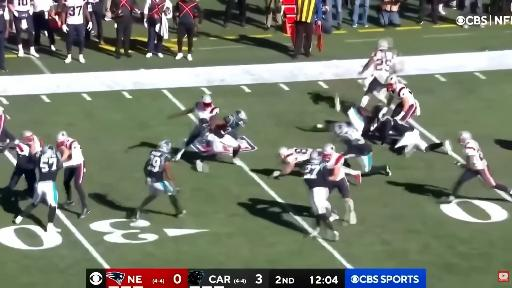Helmet: (335, 122, 354, 136), (372, 105, 388, 119), (157, 139, 172, 153), (323, 144, 335, 161), (234, 110, 247, 125), (386, 75, 397, 91), (459, 131, 472, 144), (49, 16, 61, 29), (310, 150, 322, 163), (22, 131, 34, 143), (57, 131, 67, 145), (202, 94, 212, 107), (378, 39, 389, 50), (323, 144, 335, 154), (279, 147, 289, 158), (42, 145, 54, 154), (386, 75, 397, 83)
Jersey: (335, 123, 372, 158), (390, 84, 419, 122), (372, 117, 414, 137), (144, 150, 170, 182), (372, 50, 395, 83), (37, 150, 61, 181), (463, 140, 487, 170), (303, 163, 329, 190), (334, 123, 364, 145), (64, 138, 83, 164), (16, 143, 35, 169), (65, 0, 85, 24), (391, 84, 415, 104), (283, 148, 312, 163), (195, 102, 218, 119), (224, 116, 241, 139), (363, 114, 380, 132), (327, 153, 344, 169), (8, 0, 31, 11)
Player: (313, 106, 391, 176), (442, 132, 511, 202), (13, 146, 62, 232), (135, 140, 185, 220), (168, 94, 218, 161), (372, 117, 451, 157), (303, 151, 338, 240), (334, 122, 391, 176), (323, 144, 361, 224), (57, 131, 89, 218), (359, 39, 396, 106), (206, 110, 247, 164), (8, 131, 42, 193), (62, 0, 92, 63), (7, 0, 39, 57), (387, 75, 419, 122), (272, 147, 313, 178), (0, 107, 19, 146)
